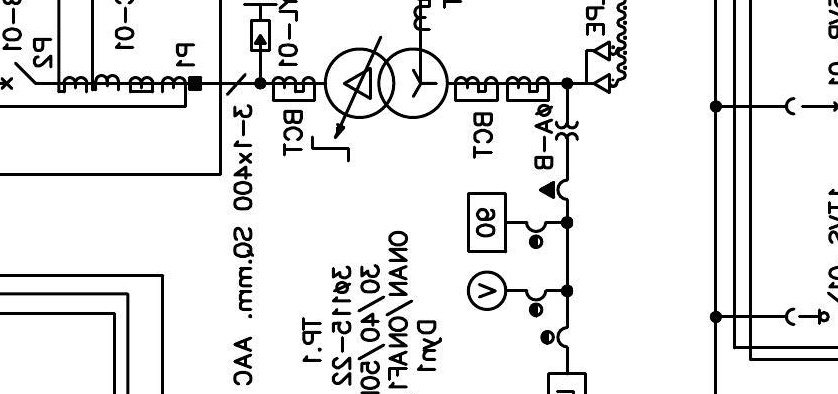11522_tx_dyn1: (323, 47, 450, 120)
115_breaker: (0, 61, 37, 91)
terminator_double: (584, 40, 611, 94)
v_m: (466, 269, 508, 312)
